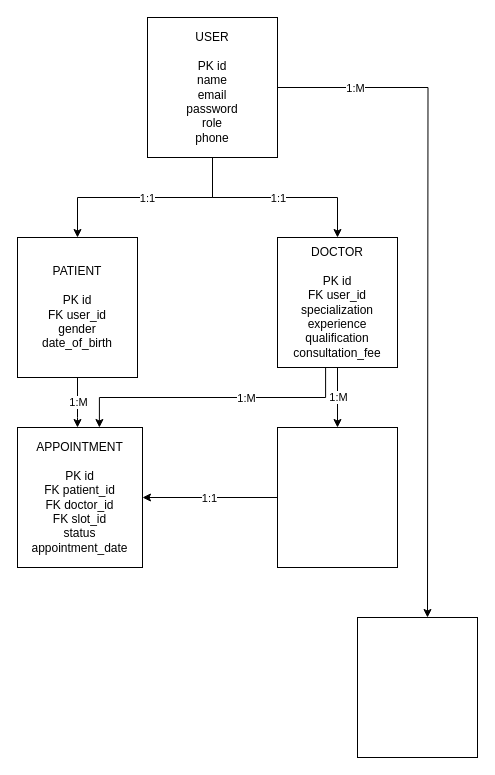
Image size: 495x775. Some labels were removed from this diagram. Here are the shapes that lost their labels. From the top down, the box of each, then its label:
(276, 426, 398, 568): SLOT PK id FK doctor_id date start_time end_time is_available
(356, 616, 478, 758): NOTIFICATION PK id FK user_id message is_read created_at
